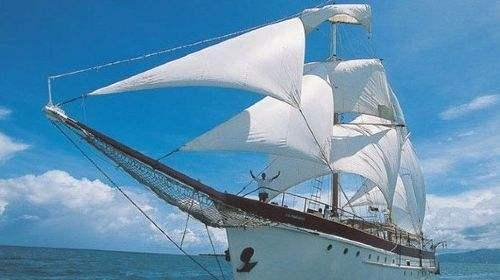fanchuan: (47, 1, 442, 278)
